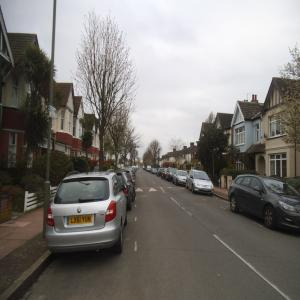Vehicle-registration-plate: (67, 214, 94, 226)
